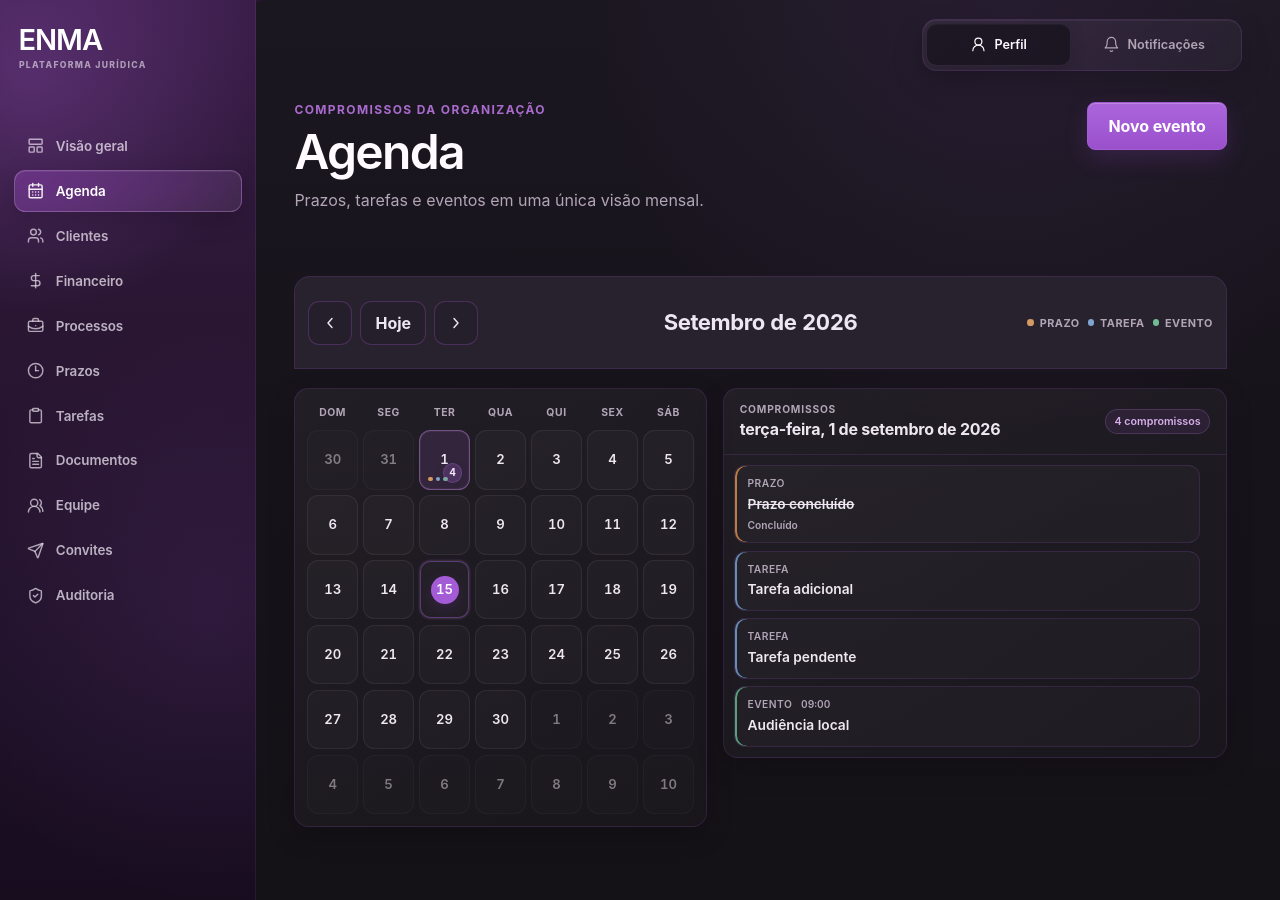
Test: Agenda E flow › AgendaRoute_RendersNavigationSixWeekGridKindsCompletedStateAndLocalEvent
Expected: the heading "Agenda" is shown, 294,122 -> 464,181
Expected: the heading "Setembro de 2026" is shown, 664,308 -> 857,337
Click the button named "Próximo mês": click(456, 323) 434,301 -> 478,345
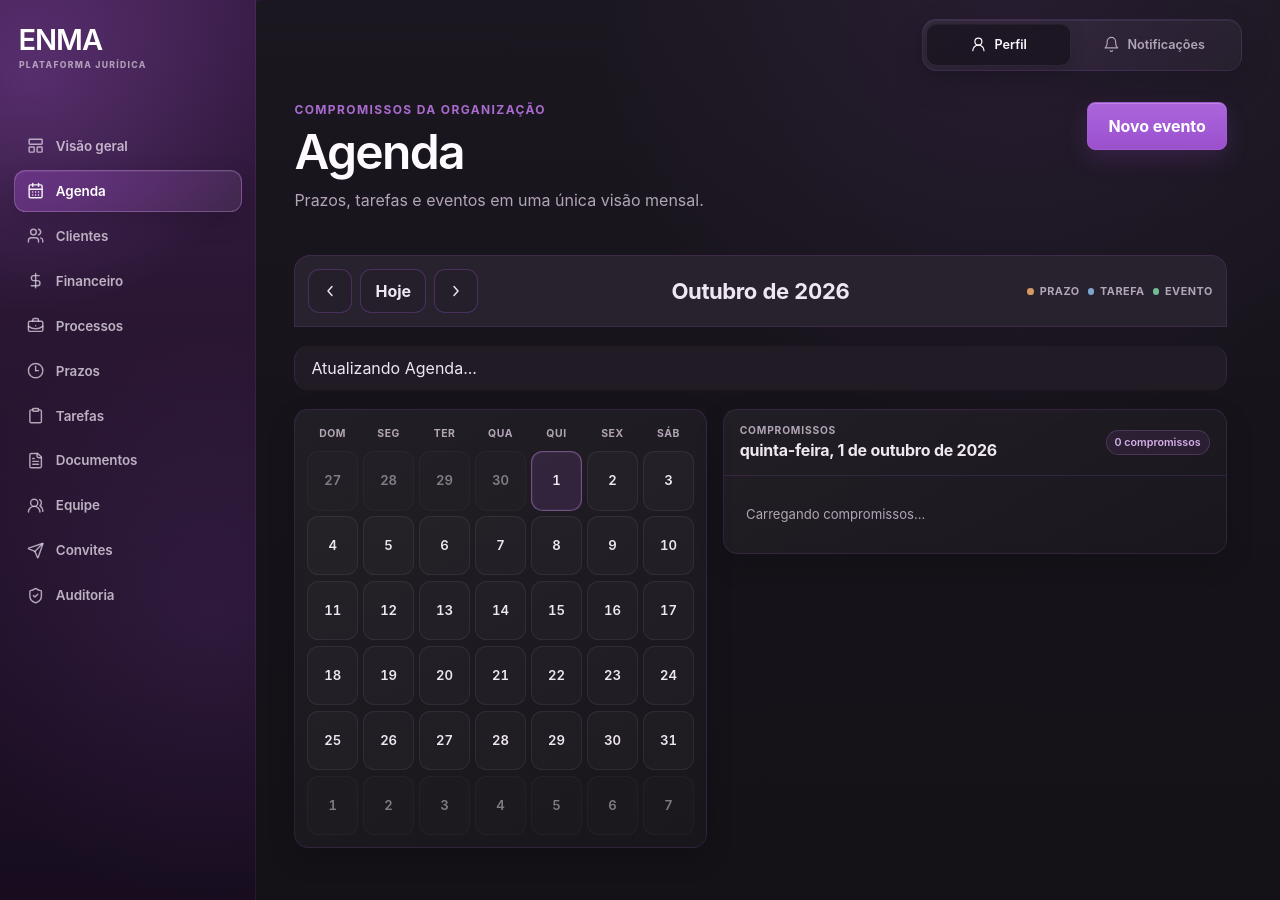
Now the heading "Outubro de 2026" is shown, box 672,277 -> 849,306
Click the button "Hoje": click(393, 291) 360,269 -> 426,313
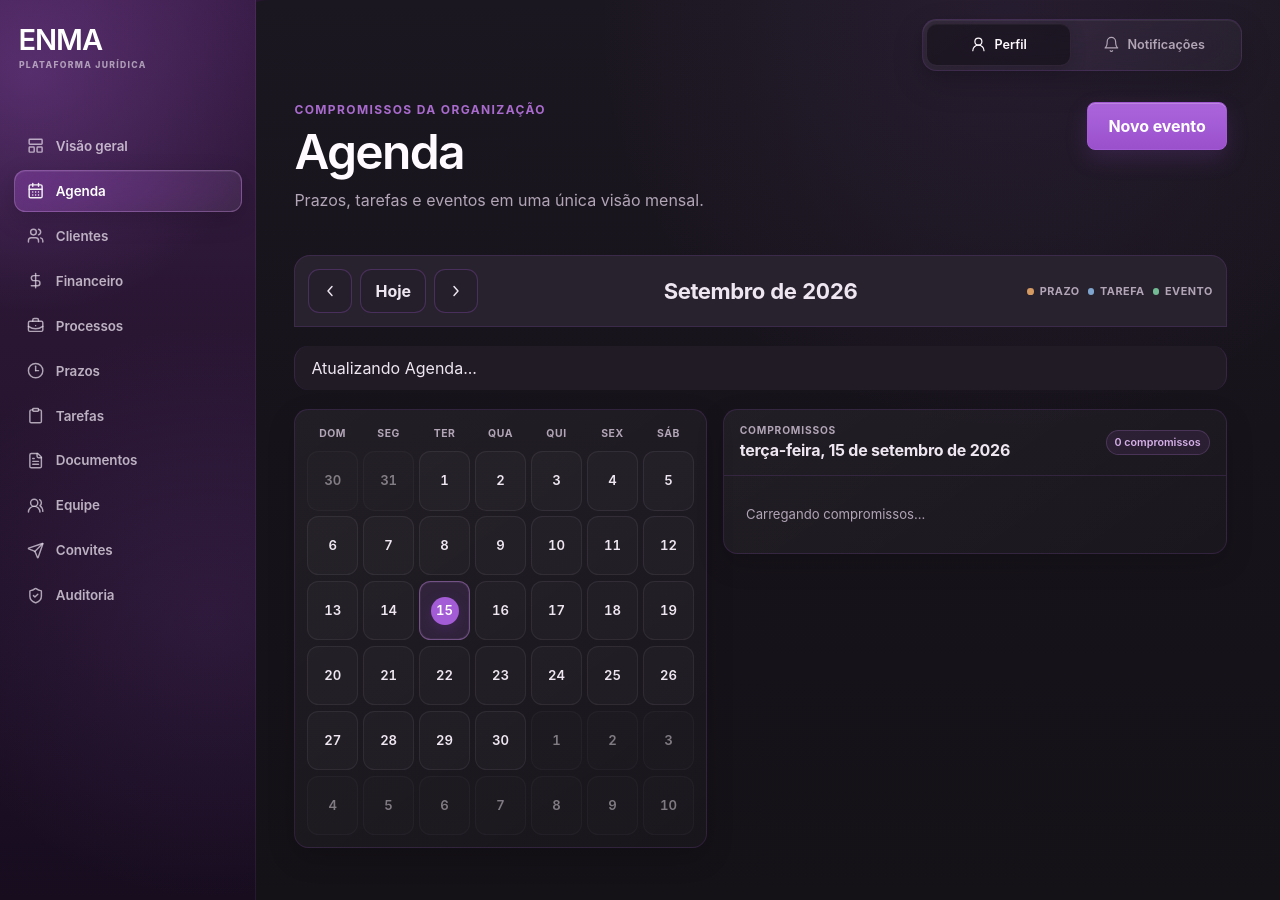
Now the heading "Setembro de 2026" is shown, box 664,277 -> 857,306
Click the button named "Mês anterior": click(330, 291) 308,269 -> 352,313
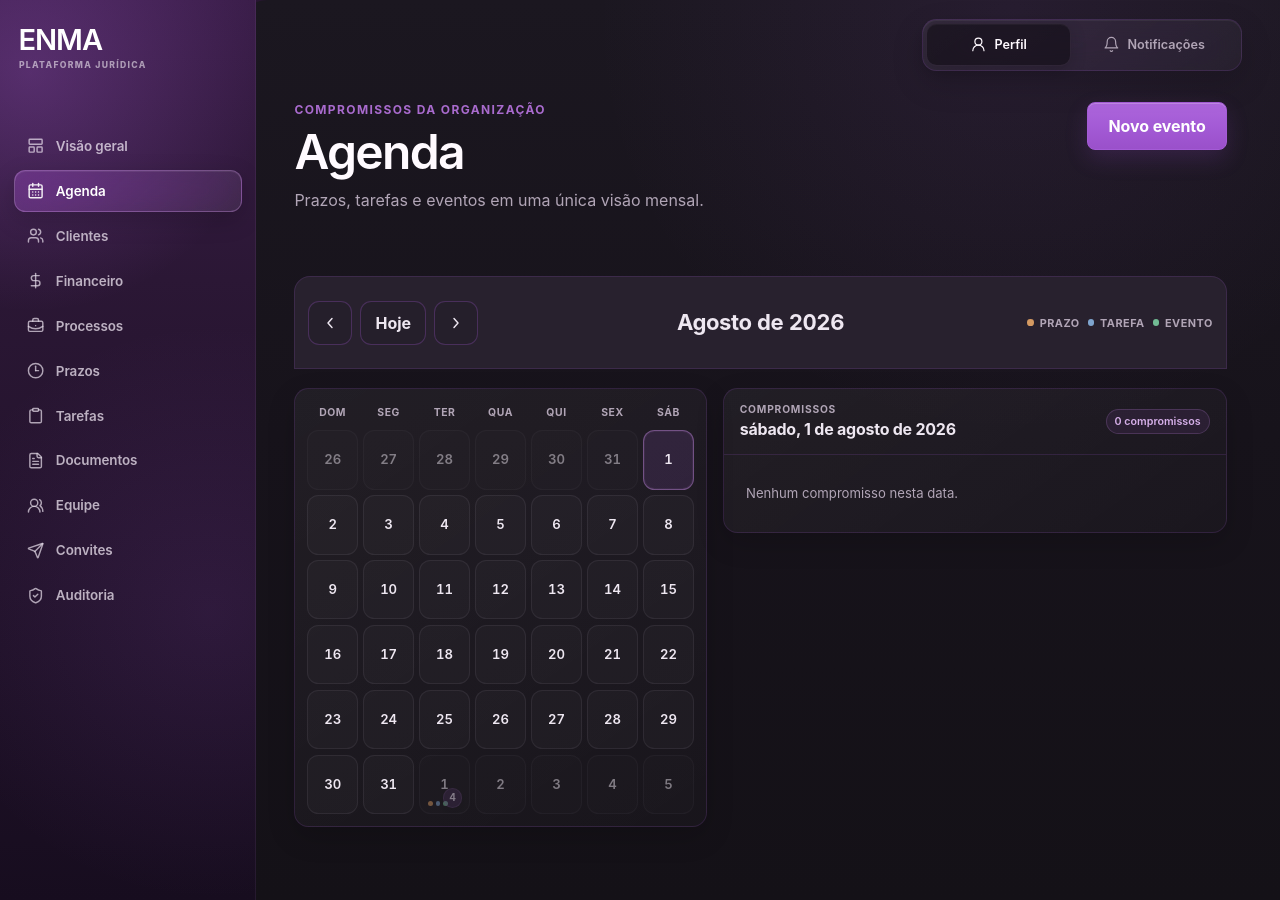
Now the heading "Agosto de 2026" is shown, box 677,308 -> 844,337
